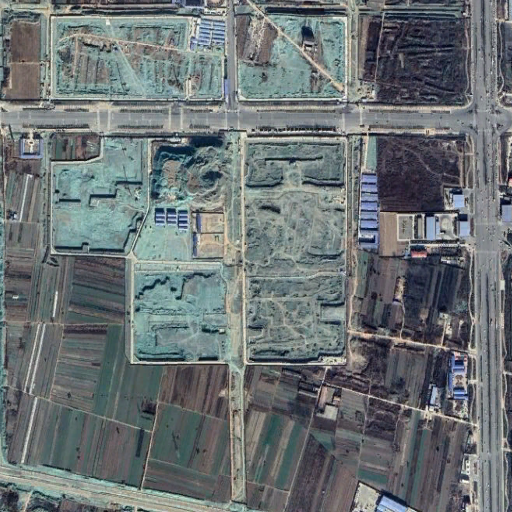cw: (52, 130, 353, 363), (48, 14, 227, 100), (235, 13, 348, 98)
